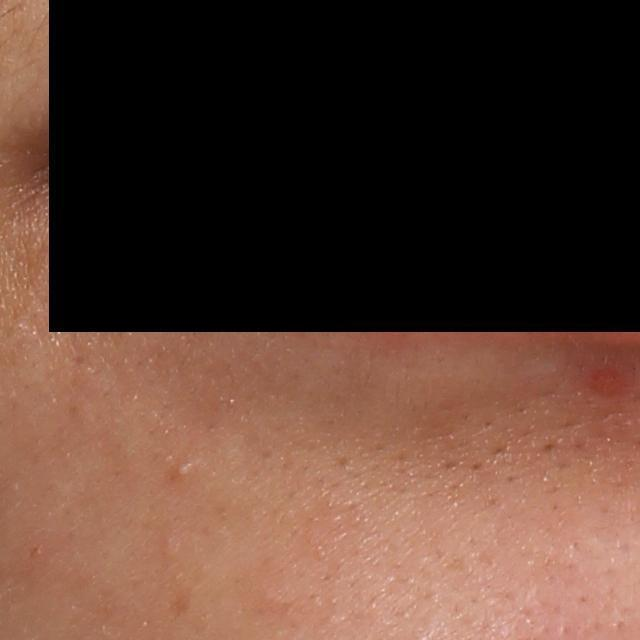comedo: (157, 533, 186, 560), (176, 461, 194, 478)
papule: (589, 368, 619, 398)
